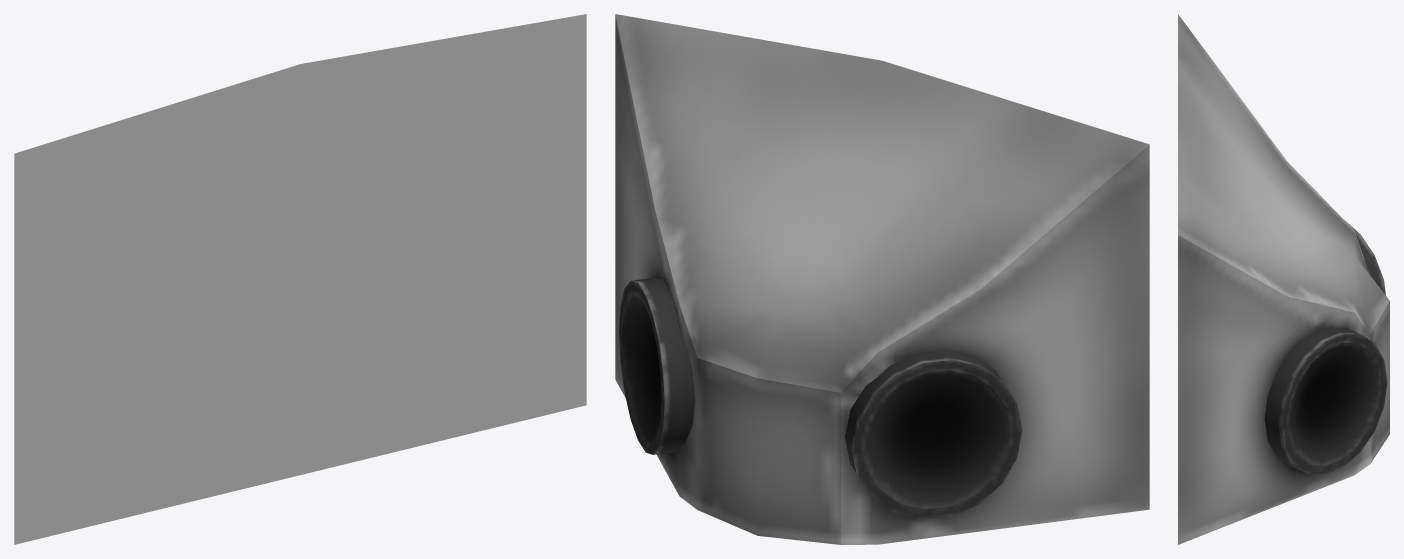
Rendered from Gemini_RotationRCS.dae.
The picture shows the model from 3 angles, left to right: view 1: azimuth 30°, elevation 25°; view 2: azimuth 150°, elevation 25°; view 3: azimuth 270°, elevation 25°; orthographic projection. The views are drawn at different scales.
Parts seen in each view (by area): view 1: Leo_RotationalRCS; view 2: Leo_RotationalRCS, pCylinder119, pCylinder120; view 3: Leo_RotationalRCS, pCylinder120, pCylinder119.
Boxes of the visible parts, x1,y1,x2,y2 form: Leo_RotationalRCS: (14,14,586,544); Leo_RotationalRCS: (615,14,1149,544); pCylinder119: (845,349,1022,519); pCylinder120: (619,277,694,454); Leo_RotationalRCS: (1178,14,1389,544); pCylinder120: (1264,327,1387,474); pCylinder119: (1344,220,1385,295).
Bounding box in the file's own units: 0.1701 × 0.1167 × 0.0688.
